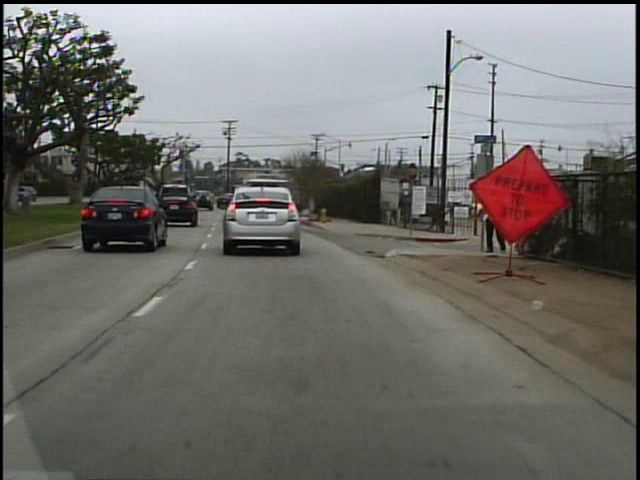person: (477, 180, 514, 258)
